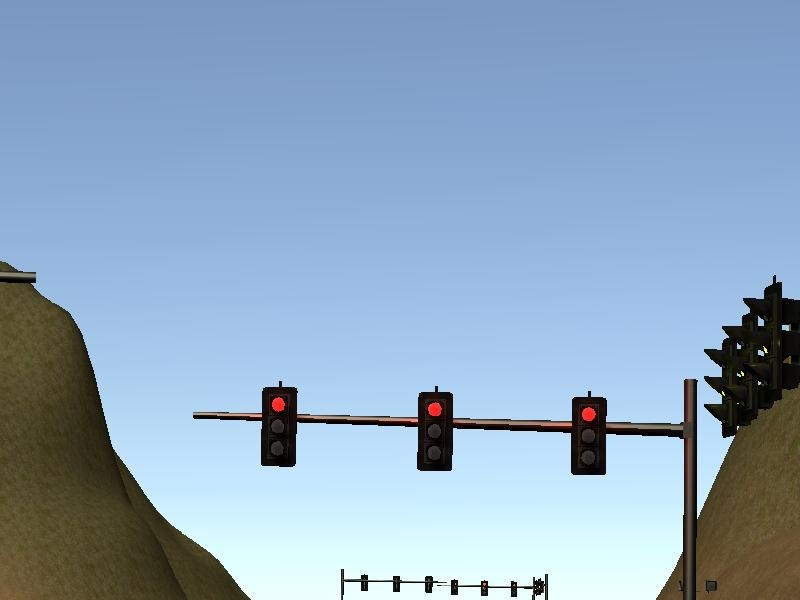red: (259, 385, 299, 468), (415, 390, 455, 472), (570, 396, 608, 476)
